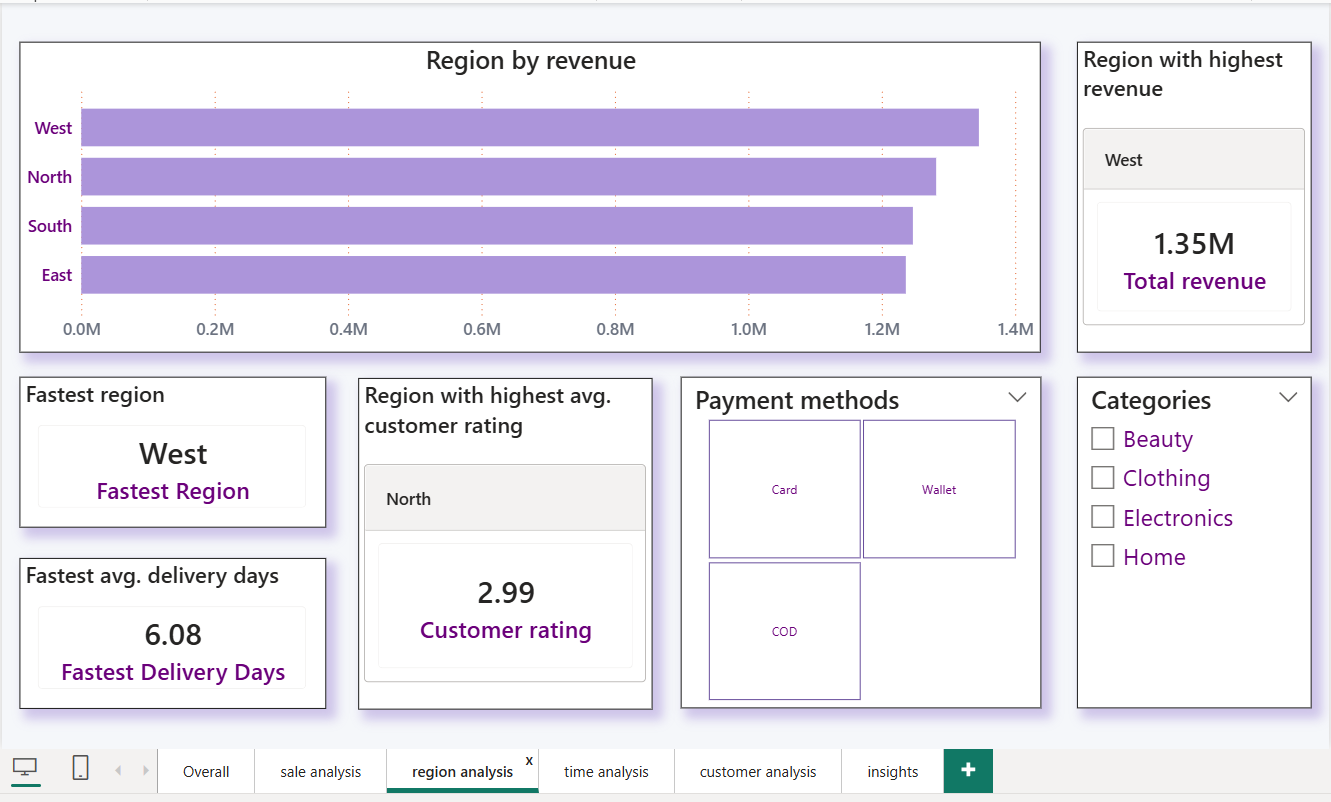

This screenshot's page, from the dashboard's own definition file:
{"tool":"powerbi","page":{"name":"region analysis","canvas":[1280,720],"ordinal":2},"visuals":[{"type":"barChart","title":"Region by revenue","fields":{"Category":["ecommerce.region"],"Y":["Sum(ecommerce.revenue)"]},"box":[17.3,37.5,985.4,300.1],"z":0},{"type":"cardVisual","title":"Region with highest revenue","fields":{"Rows":["ecommerce.region"],"Data":["Sum(ecommerce.revenue)"]},"box":[1037.3,37.5,226.5,300.1],"z":1000},{"type":"cardVisual","title":"Fastest region","fields":{"Data":["ecommerce.Fastest Delivery Days"]},"box":[17.3,360.7,295.8,145.7],"z":2000},{"type":"cardVisual","title":"Region with highest avg. customer rating","fields":{"Rows":["ecommerce.region"],"Data":["Avg(ecommerce.customer_rating)"]},"box":[343.4,362.1,284.2,320.3],"z":3000},{"type":"slicer","fields":{"Values":["ecommerce.product_category"]},"box":[1037.3,360.7,226.5,320.3],"z":4000},{"type":"slicer","fields":{"Values":["ecommerce.payment_method"]},"box":[655,360.7,347.7,320.3],"z":5000},{"type":"cardVisual","title":"Fastest avg. delivery days","fields":{"Data":["ecommerce.Fastest Delivery Days"]},"box":[17.3,535.3,295.8,145.7],"z":6000}]}

Visuals, with their boxes in screenshot pixels (x1, y1, x2, y2):
"Region by revenue" barChart: <box>25,42,1035,350</box>
"Region with highest revenue" cardVisual: <box>1071,42,1303,350</box>
"Fastest region" cardVisual: <box>25,373,328,523</box>
"Region with highest avg. customer rating" cardVisual: <box>359,375,651,703</box>
slicer - ecommerce.product_category: <box>1071,373,1303,702</box>
slicer - ecommerce.payment_method: <box>679,373,1035,702</box>
"Fastest avg. delivery days" cardVisual: <box>25,552,328,702</box>
